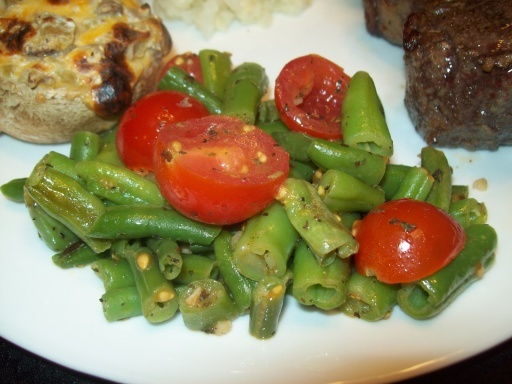background: (0, 0, 410, 204)
